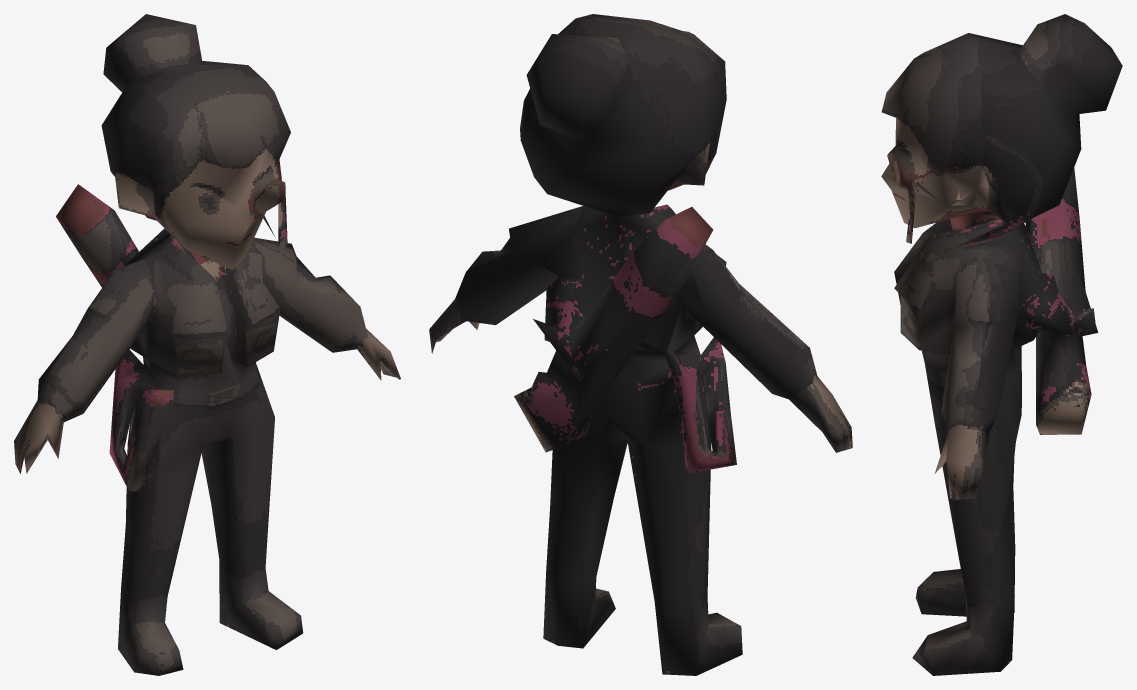
The model's file is hero_juno.glb.
3 views of the same model, side by side, from view 1: azimuth 30°, elevation 25°; view 2: azimuth 150°, elevation 25°; view 3: azimuth 270°, elevation 25° (orthographic). The views are drawn at different scales.
Parts seen in each view (by area): view 1: hero_juno; view 2: hero_juno; view 3: hero_juno.
Part boxes in pixels (x1,y1,x2,y2): hero_juno: (14,14,400,675); hero_juno: (429,14,852,675); hero_juno: (881,14,1122,675).
Size of the model in its own units: 0.677 by 1 by 0.3583.
Materials: 1 (1 with a texture image).
